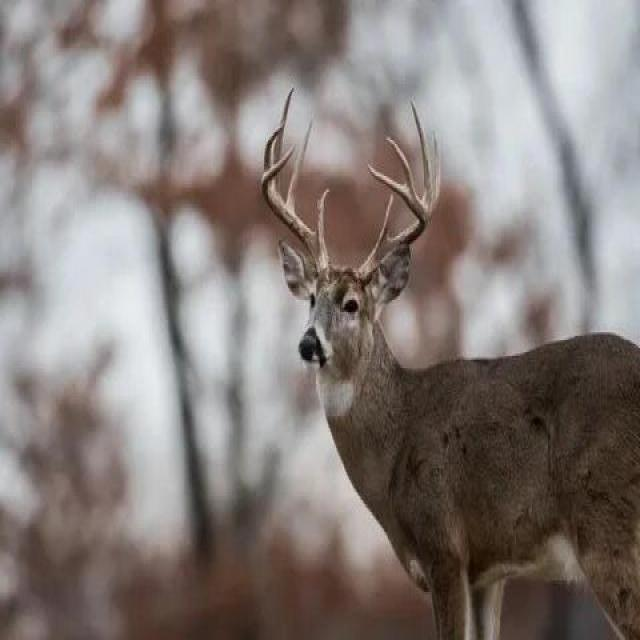deer: (232, 88, 640, 600)
